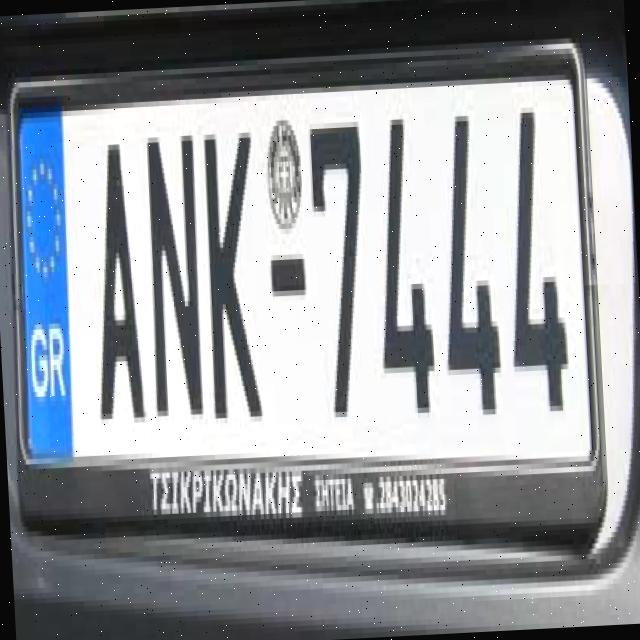EU: (3, 65, 604, 466)
Grece: (22, 109, 70, 469)
